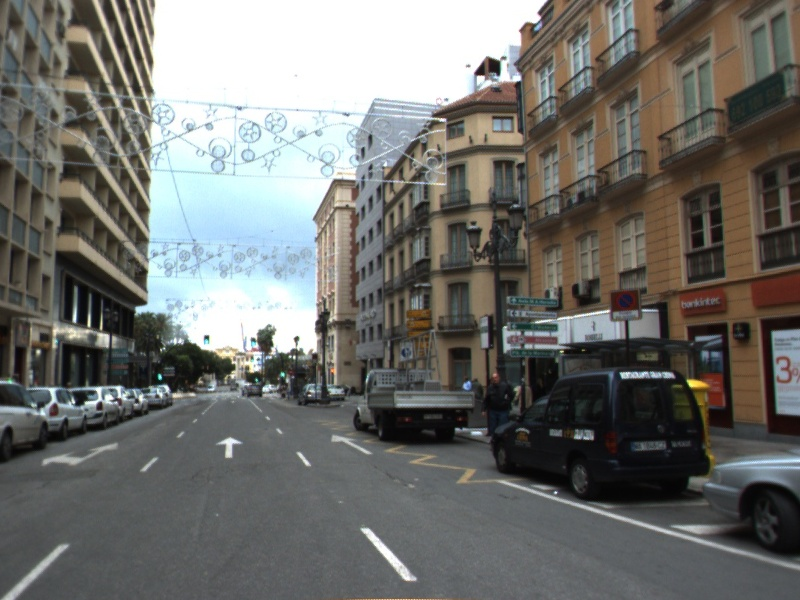STRAIGHT: (329, 432, 376, 456), (213, 435, 246, 460)
STRAIGHT_LEFT: (39, 440, 121, 469)
